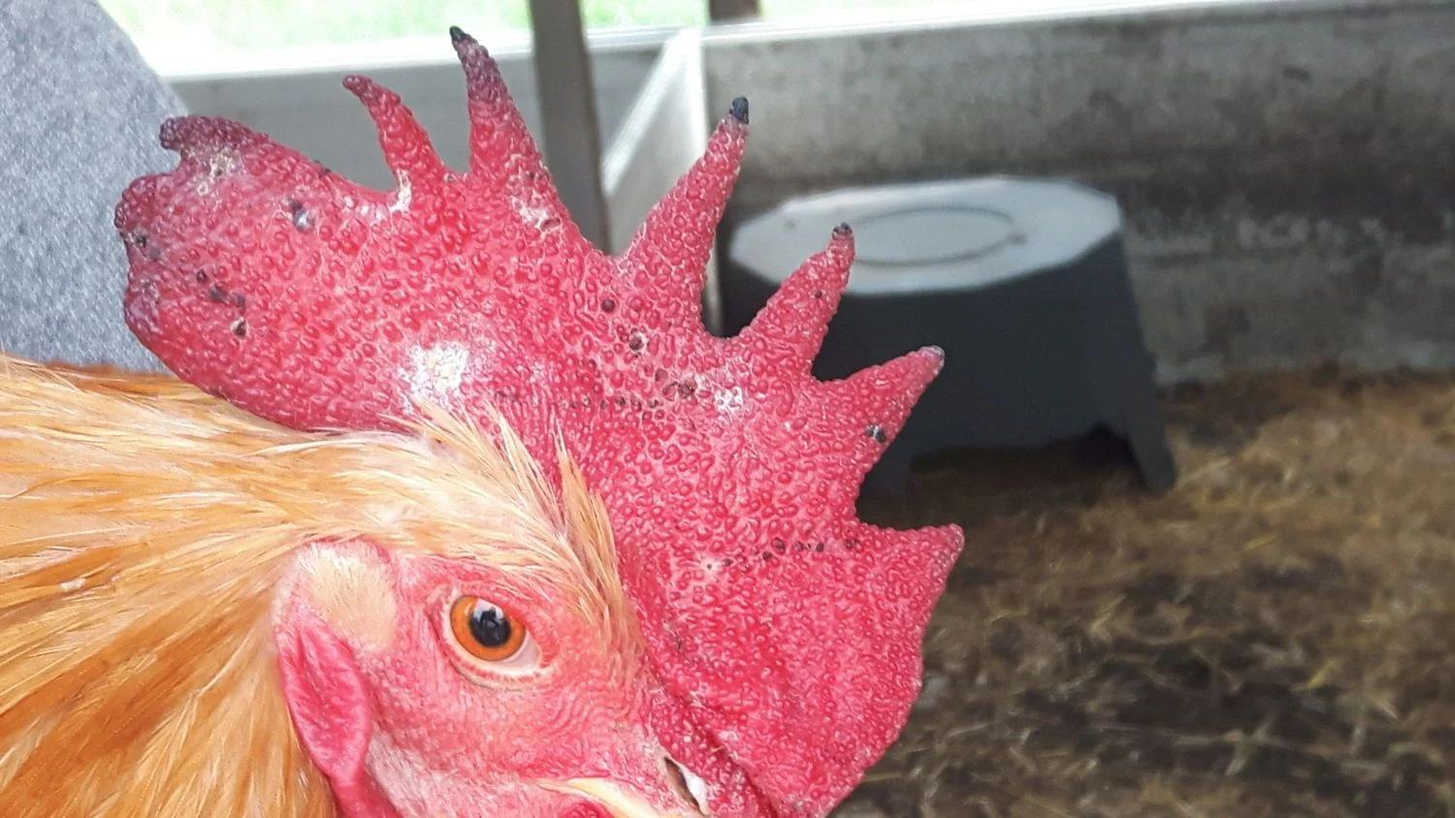AbNormal: (123, 26, 969, 818)
